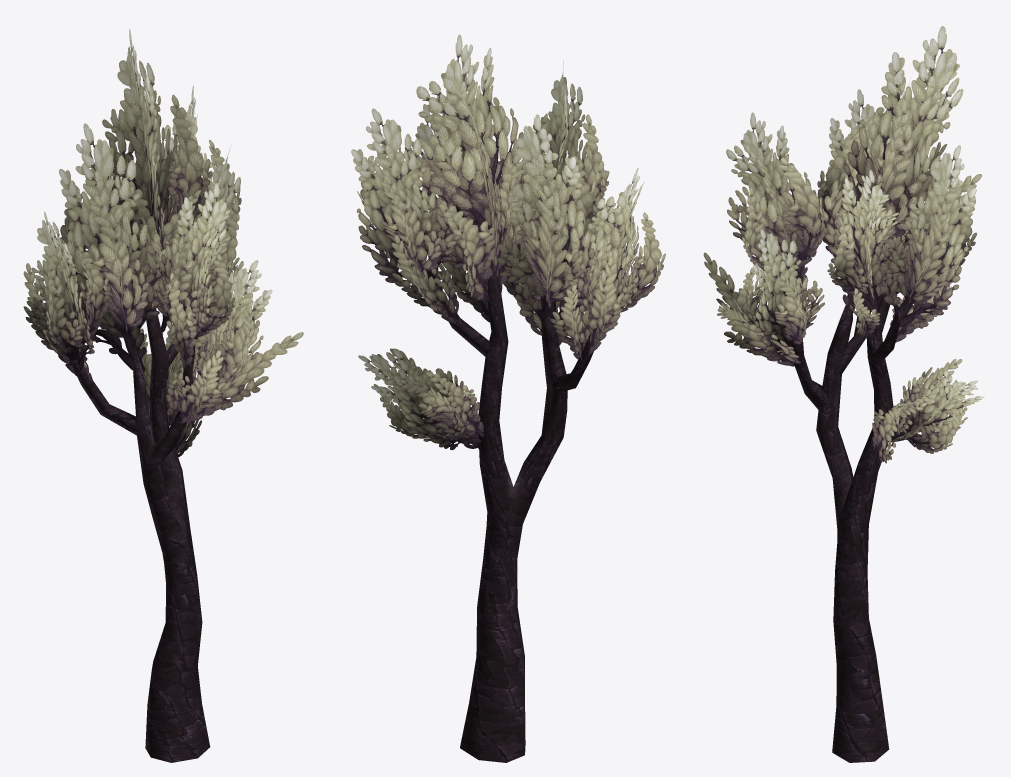
3 views of the same model, side by side, from view 1: azimuth 30°, elevation 25°; view 2: azimuth 150°, elevation 25°; view 3: azimuth 270°, elevation 25° (orthographic). The views are drawn at different scales.
Size of the model in its own units: 9.57 by 25.69 by 9.51.
2 materials, 2 textured.
